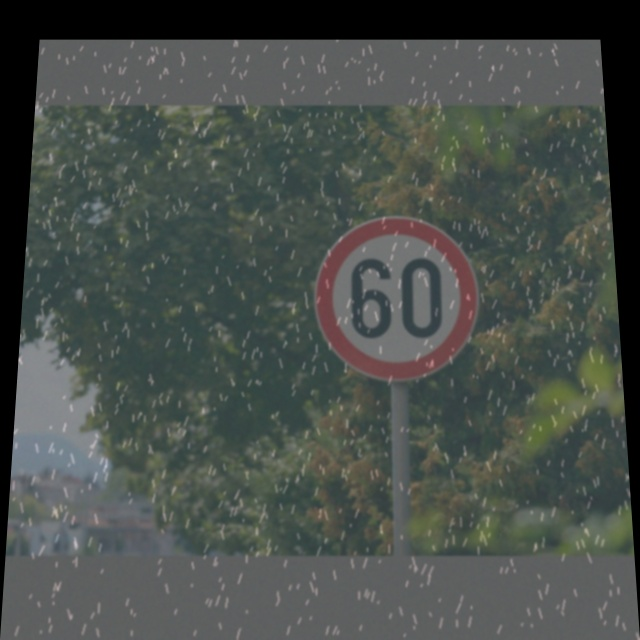Speed_Limit_60: (309, 215, 481, 383)
